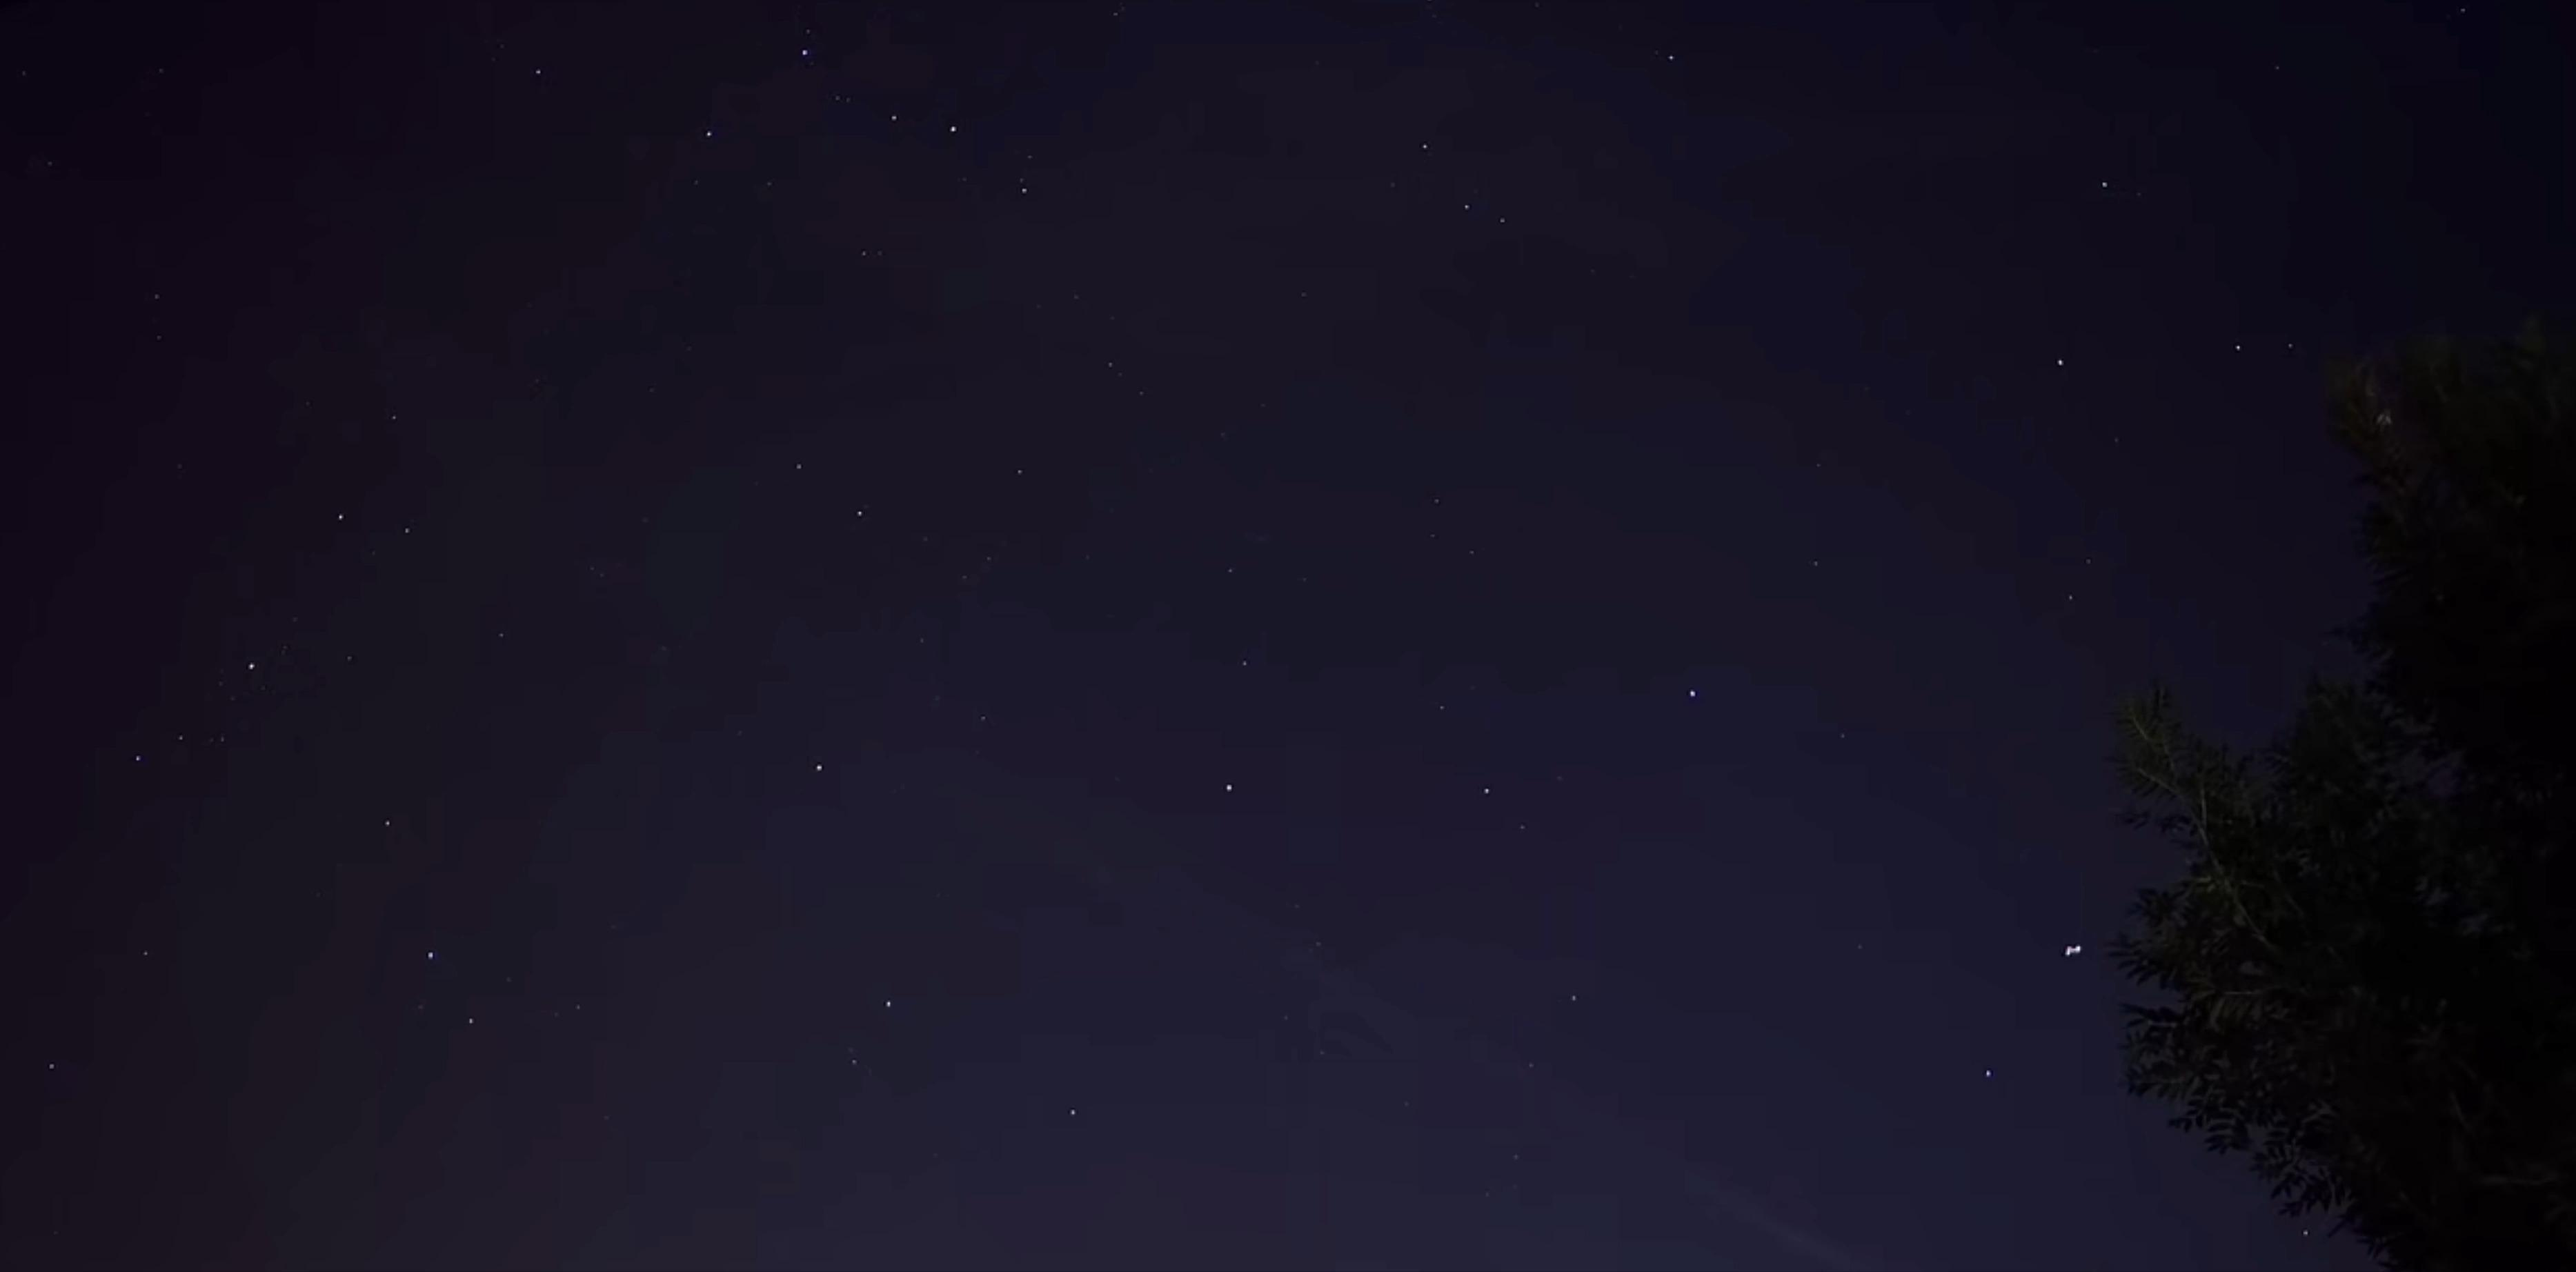Plane: (2050, 937, 2088, 963)
